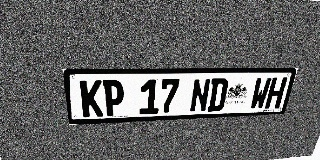1: (140, 79, 160, 115)
7: (159, 79, 180, 114)
D: (207, 78, 229, 112)
H: (264, 77, 288, 109)
K: (80, 80, 103, 117)
N: (189, 78, 211, 112)
P: (102, 80, 124, 116)
W: (249, 78, 272, 110)
